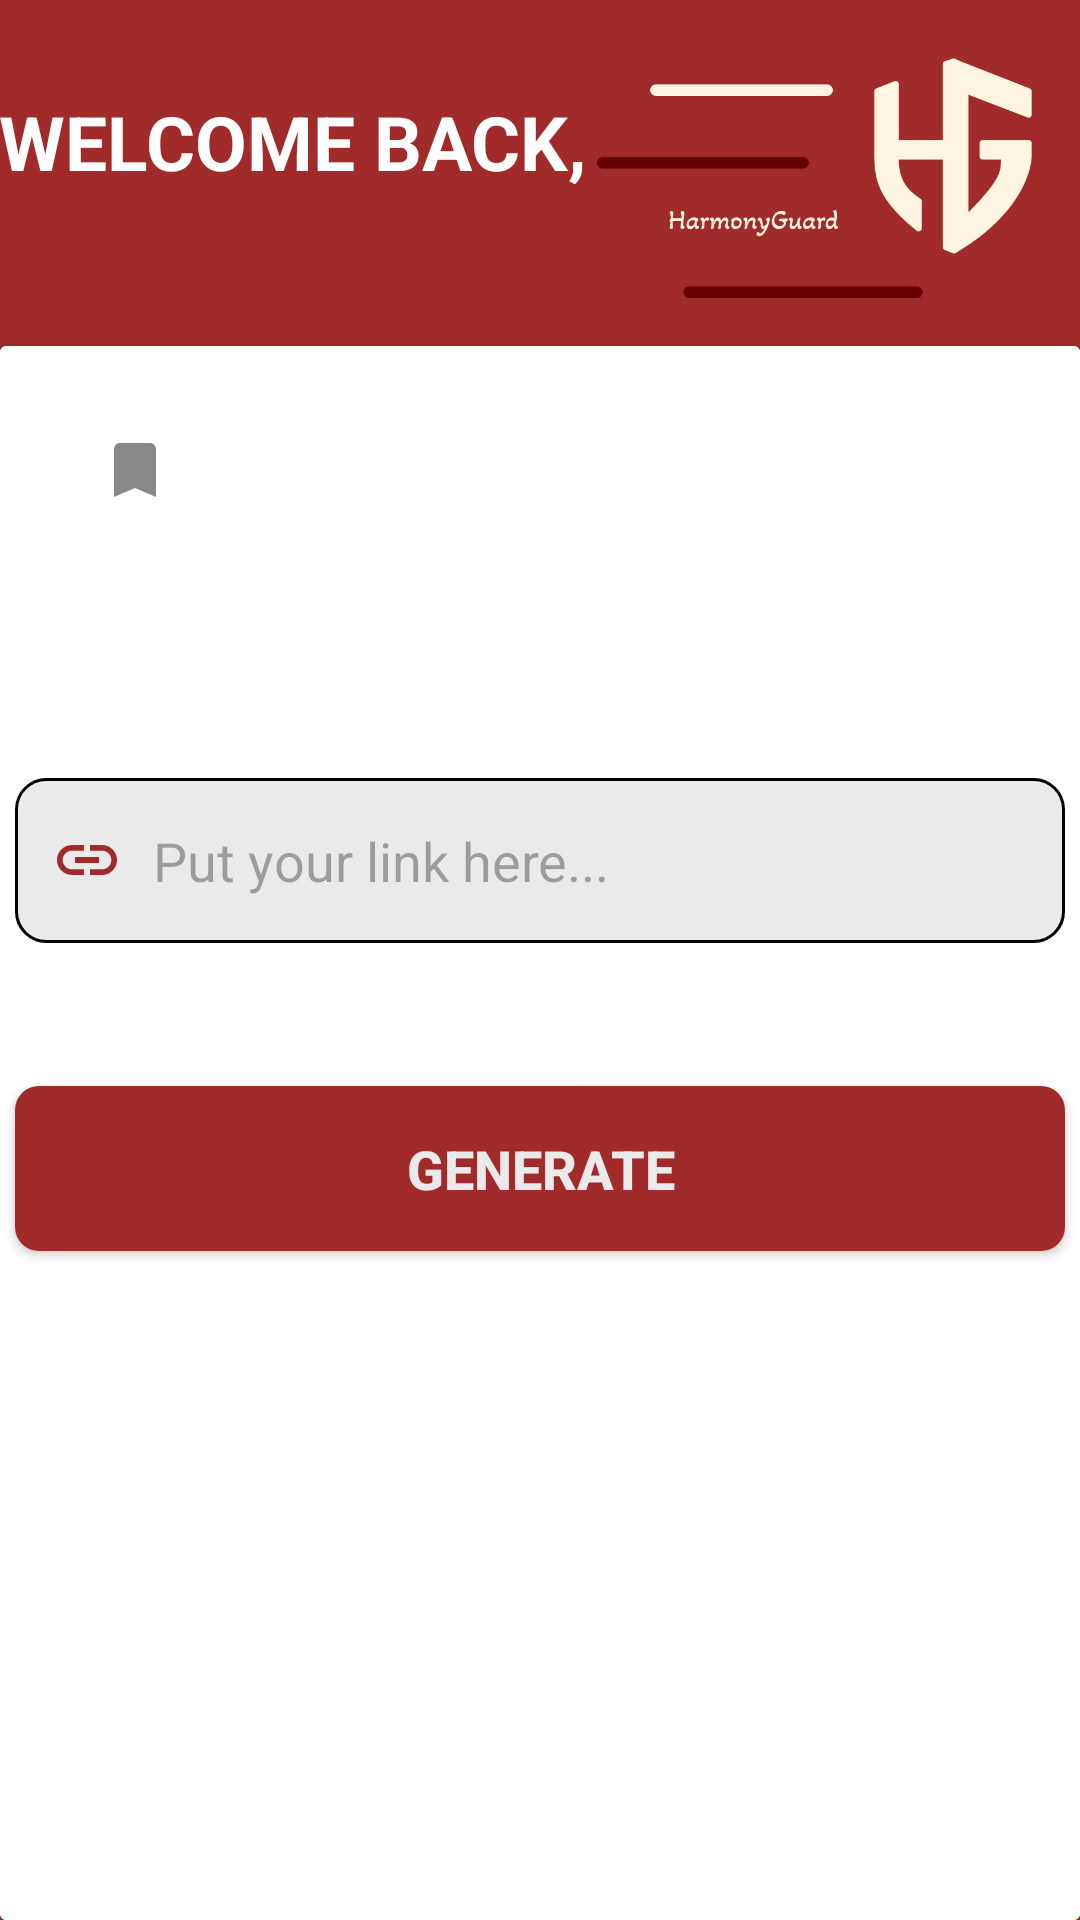

Named icons in this screenshot (1080x1920) and their centers, (x,y):
bookmark: (135,470)
